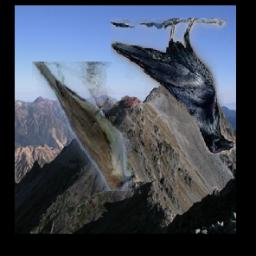Crow: (111, 19, 235, 155)
Cuckoo: (32, 62, 132, 192)
